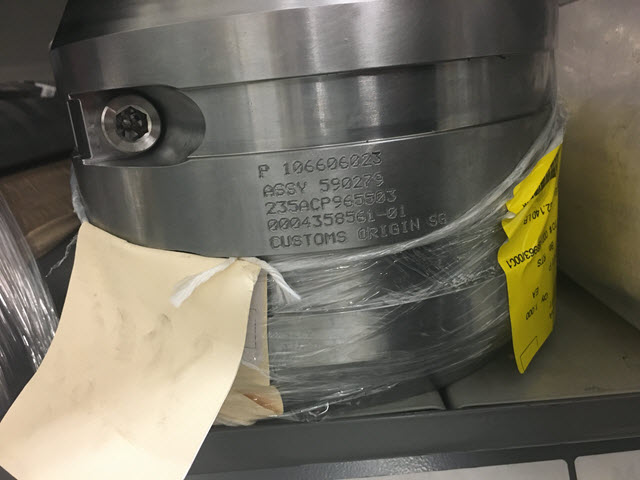character: (256, 162, 273, 179), (263, 199, 278, 217), (355, 226, 370, 243), (272, 182, 289, 197), (261, 183, 276, 200), (318, 193, 332, 211), (370, 149, 384, 167), (323, 231, 338, 247), (338, 152, 350, 172), (301, 232, 314, 250), (279, 161, 292, 179), (292, 158, 305, 176), (303, 158, 316, 176), (362, 170, 374, 189), (295, 180, 310, 195), (322, 211, 336, 227), (278, 216, 292, 232), (325, 156, 338, 173), (386, 203, 397, 223), (409, 215, 421, 233), (315, 156, 327, 174), (361, 150, 373, 168), (330, 177, 344, 192), (313, 230, 324, 249), (269, 234, 282, 250), (277, 199, 290, 215), (341, 193, 354, 209), (385, 188, 398, 204), (367, 226, 379, 243), (345, 208, 357, 225), (331, 193, 343, 210), (373, 170, 385, 187), (341, 175, 353, 192), (319, 177, 331, 194), (354, 190, 365, 208), (279, 234, 293, 248), (350, 174, 364, 188), (311, 213, 324, 228), (388, 221, 400, 237), (288, 197, 300, 213), (308, 196, 320, 212), (348, 153, 360, 169), (333, 211, 346, 225), (289, 216, 303, 229), (267, 219, 280, 233), (366, 207, 376, 225), (356, 209, 368, 224), (363, 191, 375, 206), (292, 232, 303, 248), (335, 229, 346, 245), (375, 188, 386, 204), (287, 180, 297, 197), (376, 224, 388, 238), (301, 215, 312, 230), (427, 214, 438, 228), (438, 212, 449, 226), (375, 208, 387, 220), (397, 204, 408, 217), (299, 200, 310, 213), (399, 219, 409, 233)
